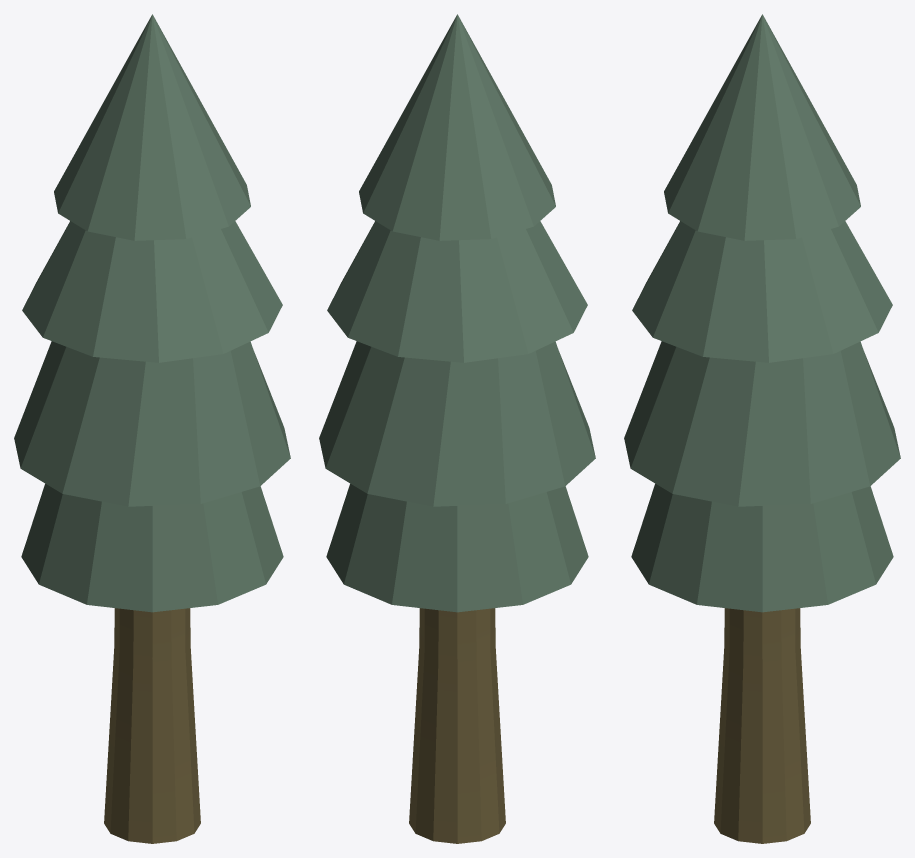
Rendered from SM_Tree_03.fbx.
3 views of the same model, side by side, from view 1: azimuth 30°, elevation 25°; view 2: azimuth 150°, elevation 25°; view 3: azimuth 270°, elevation 25° (orthographic).
Parts seen in each view (by area): view 1: pCylinder2; view 2: pCylinder2; view 3: pCylinder2.
Part boxes in pixels (x1,y1,x2,y2): pCylinder2: [14, 14, 290, 843]; pCylinder2: [319, 14, 595, 843]; pCylinder2: [624, 14, 900, 843].
Size of the model in its own units: 665 by 2146 by 665.
